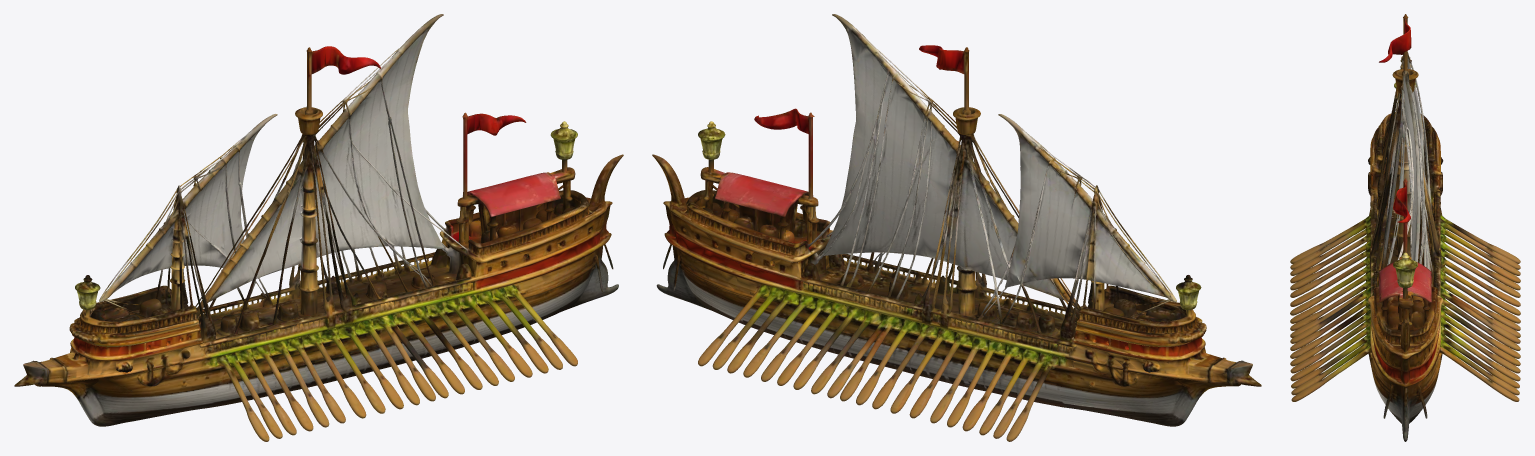
Rendered from galleass.glb.
3 views of the same model, side by side, from view 1: azimuth 30°, elevation 25°; view 2: azimuth 150°, elevation 25°; view 3: azimuth 270°, elevation 25° (orthographic). The views are drawn at different scales.
Parts seen in each view (by area): view 1: node_0; view 2: node_0; view 3: node_0.
Boxes of the visible parts, x1,y1,x2,y2 form: node_0: (14,14,623,441); node_0: (652,14,1261,441); node_0: (1290,14,1520,441).
Size of the model in its own units: 1.1 by 0.5734 by 0.3946.
Materials: 1 (1 with a texture image).
